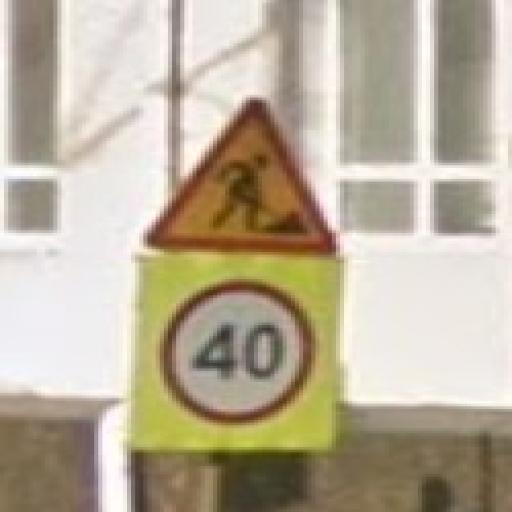traffic_sign: (140, 96, 341, 256), (161, 283, 316, 424)
